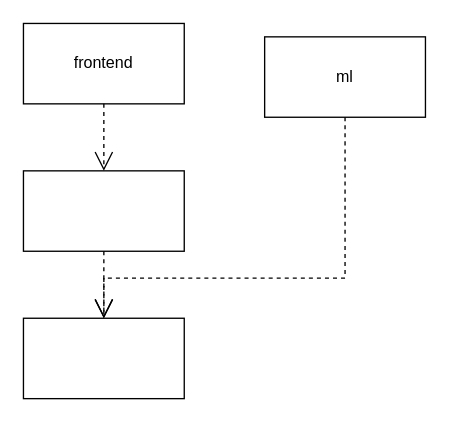
This 449x422 diagram has some shape labels left out. Each missing label, with the centre of its shape:
"core" goes at point 103,358.
"web" goes at point 103,210.
